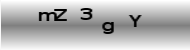3: (79, 7, 95, 22)
Y: (128, 13, 143, 28)
Z: (53, 7, 68, 21)
g: (101, 20, 116, 34)
m: (38, 10, 57, 21)
